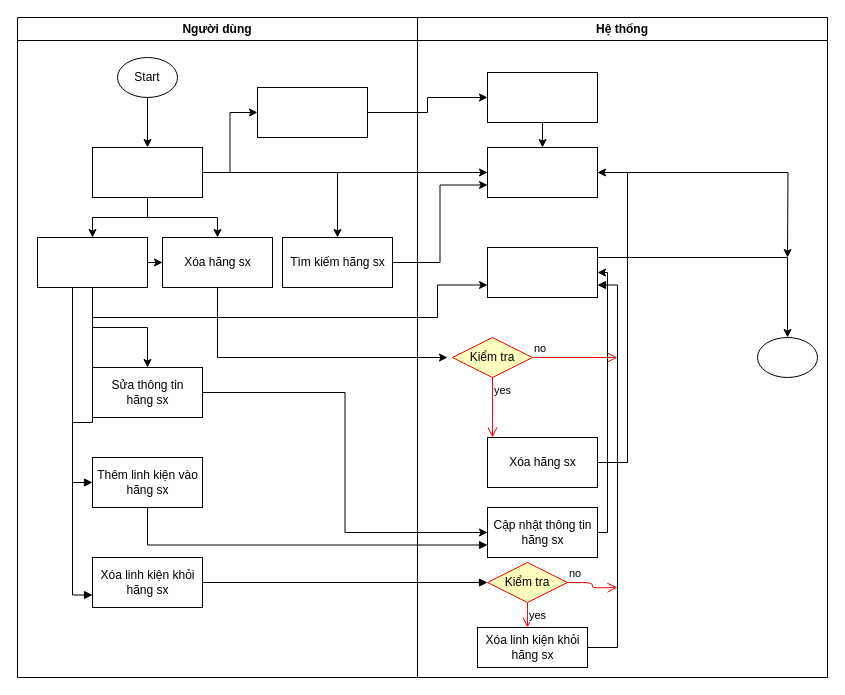
This 845x695 diagram has some shape labels left out. The centre of each missing label's shape, as x and y in pixels:
End: (787,357)
Hiển thị chi tiết hãng sx: (542,272)
Hiển thị danh sách hãng sx: (542,172)
Thêm hãng sx: (542,97)
Thêm hãng sản xuất: (312,112)
Xem chi tiết hãng sx: (92,262)
Xem danh sách hãng sản xuất: (147,172)
